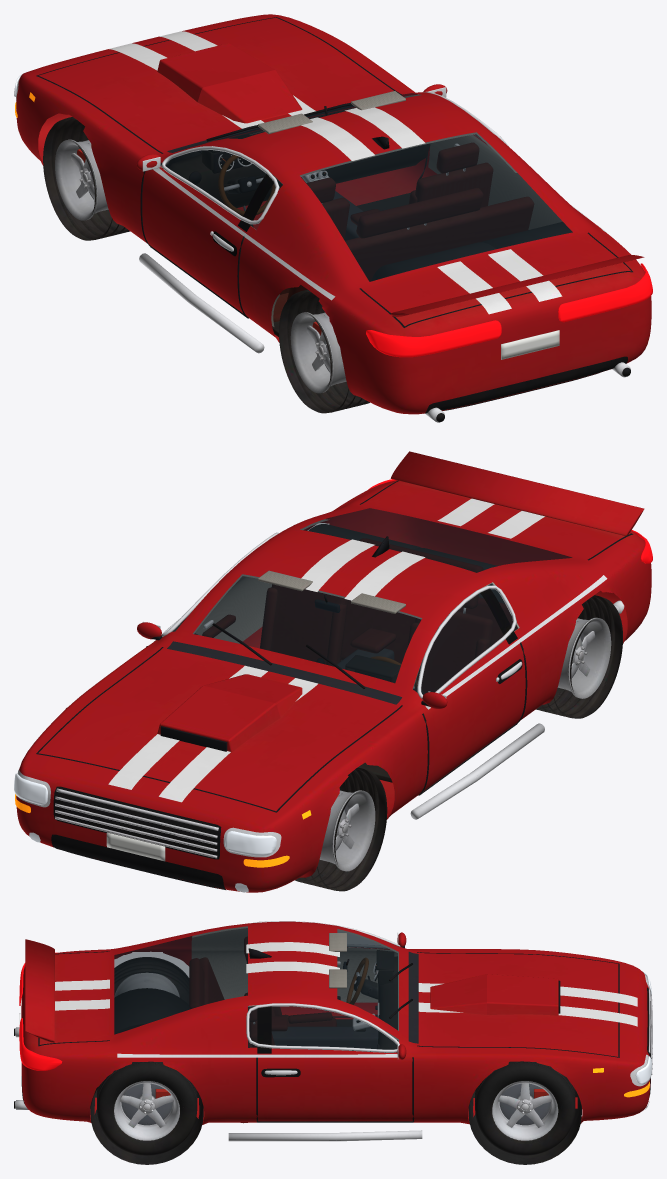
The model's file is MuscleCar.glb.
3 views of the same model, one above another, from view 1: azimuth 30°, elevation 25°; view 2: azimuth 150°, elevation 25°; view 3: azimuth 270°, elevation 25° (orthographic). The views are drawn at different scales.
Parts seen in each view (by area): view 1: MuscleCar_Body, MuscleCar_Glass, MuscleCar_Interior, MuscleCar_Trim, MuscleCar_Wheel3, MuscleCar_Wheel1, MuscleCar_Lights, MuscleCar_Steer; view 2: MuscleCar_Body, MuscleCar_Glass, MuscleCar_Trim, MuscleCar_Interior, MuscleCar_Wheel1, MuscleCar_Wheel3, MuscleCar_Lights; view 3: MuscleCar_Body, MuscleCar_Glass, MuscleCar_Trim, MuscleCar_Interior, MuscleCar_Wheel2, MuscleCar_Wheel4, MuscleCar_Wheel3, MuscleCar_Lights, MuscleCar_Steer.
Boxes of the visible parts, box(x1,y1,x2,y2) form: MuscleCar_Body: box(16, 14, 651, 414); MuscleCar_Glass: box(165, 93, 572, 281); MuscleCar_Interior: box(161, 91, 562, 336); MuscleCar_Trim: box(16, 17, 632, 422); MuscleCar_Wheel3: box(279, 289, 369, 413); MuscleCar_Wheel1: box(43, 117, 130, 240); MuscleCar_Lights: box(14, 70, 652, 357); MuscleCar_Steer: box(218, 155, 277, 215); MuscleCar_Body: box(16, 451, 651, 892); MuscleCar_Glass: box(173, 508, 571, 694); MuscleCar_Trim: box(17, 480, 633, 889); MuscleCar_Interior: box(173, 519, 519, 782); MuscleCar_Wheel1: box(295, 767, 387, 891); MuscleCar_Wheel3: box(536, 595, 622, 718); MuscleCar_Lights: box(14, 479, 652, 892); MuscleCar_Body: box(21, 921, 650, 1124); MuscleCar_Glass: box(114, 926, 398, 1052); MuscleCar_Trim: box(14, 921, 652, 1164); MuscleCar_Interior: box(189, 926, 398, 1123); MuscleCar_Wheel2: box(475, 1062, 575, 1155); MuscleCar_Wheel4: box(97, 1062, 197, 1155); MuscleCar_Wheel3: box(114, 957, 189, 1004); MuscleCar_Lights: box(19, 952, 651, 1109); MuscleCar_Steer: box(346, 957, 368, 1004).
Size of the model in its own units: 8.01 by 4.97 by 17.81.
Materials: 13 (8 with a texture image).
